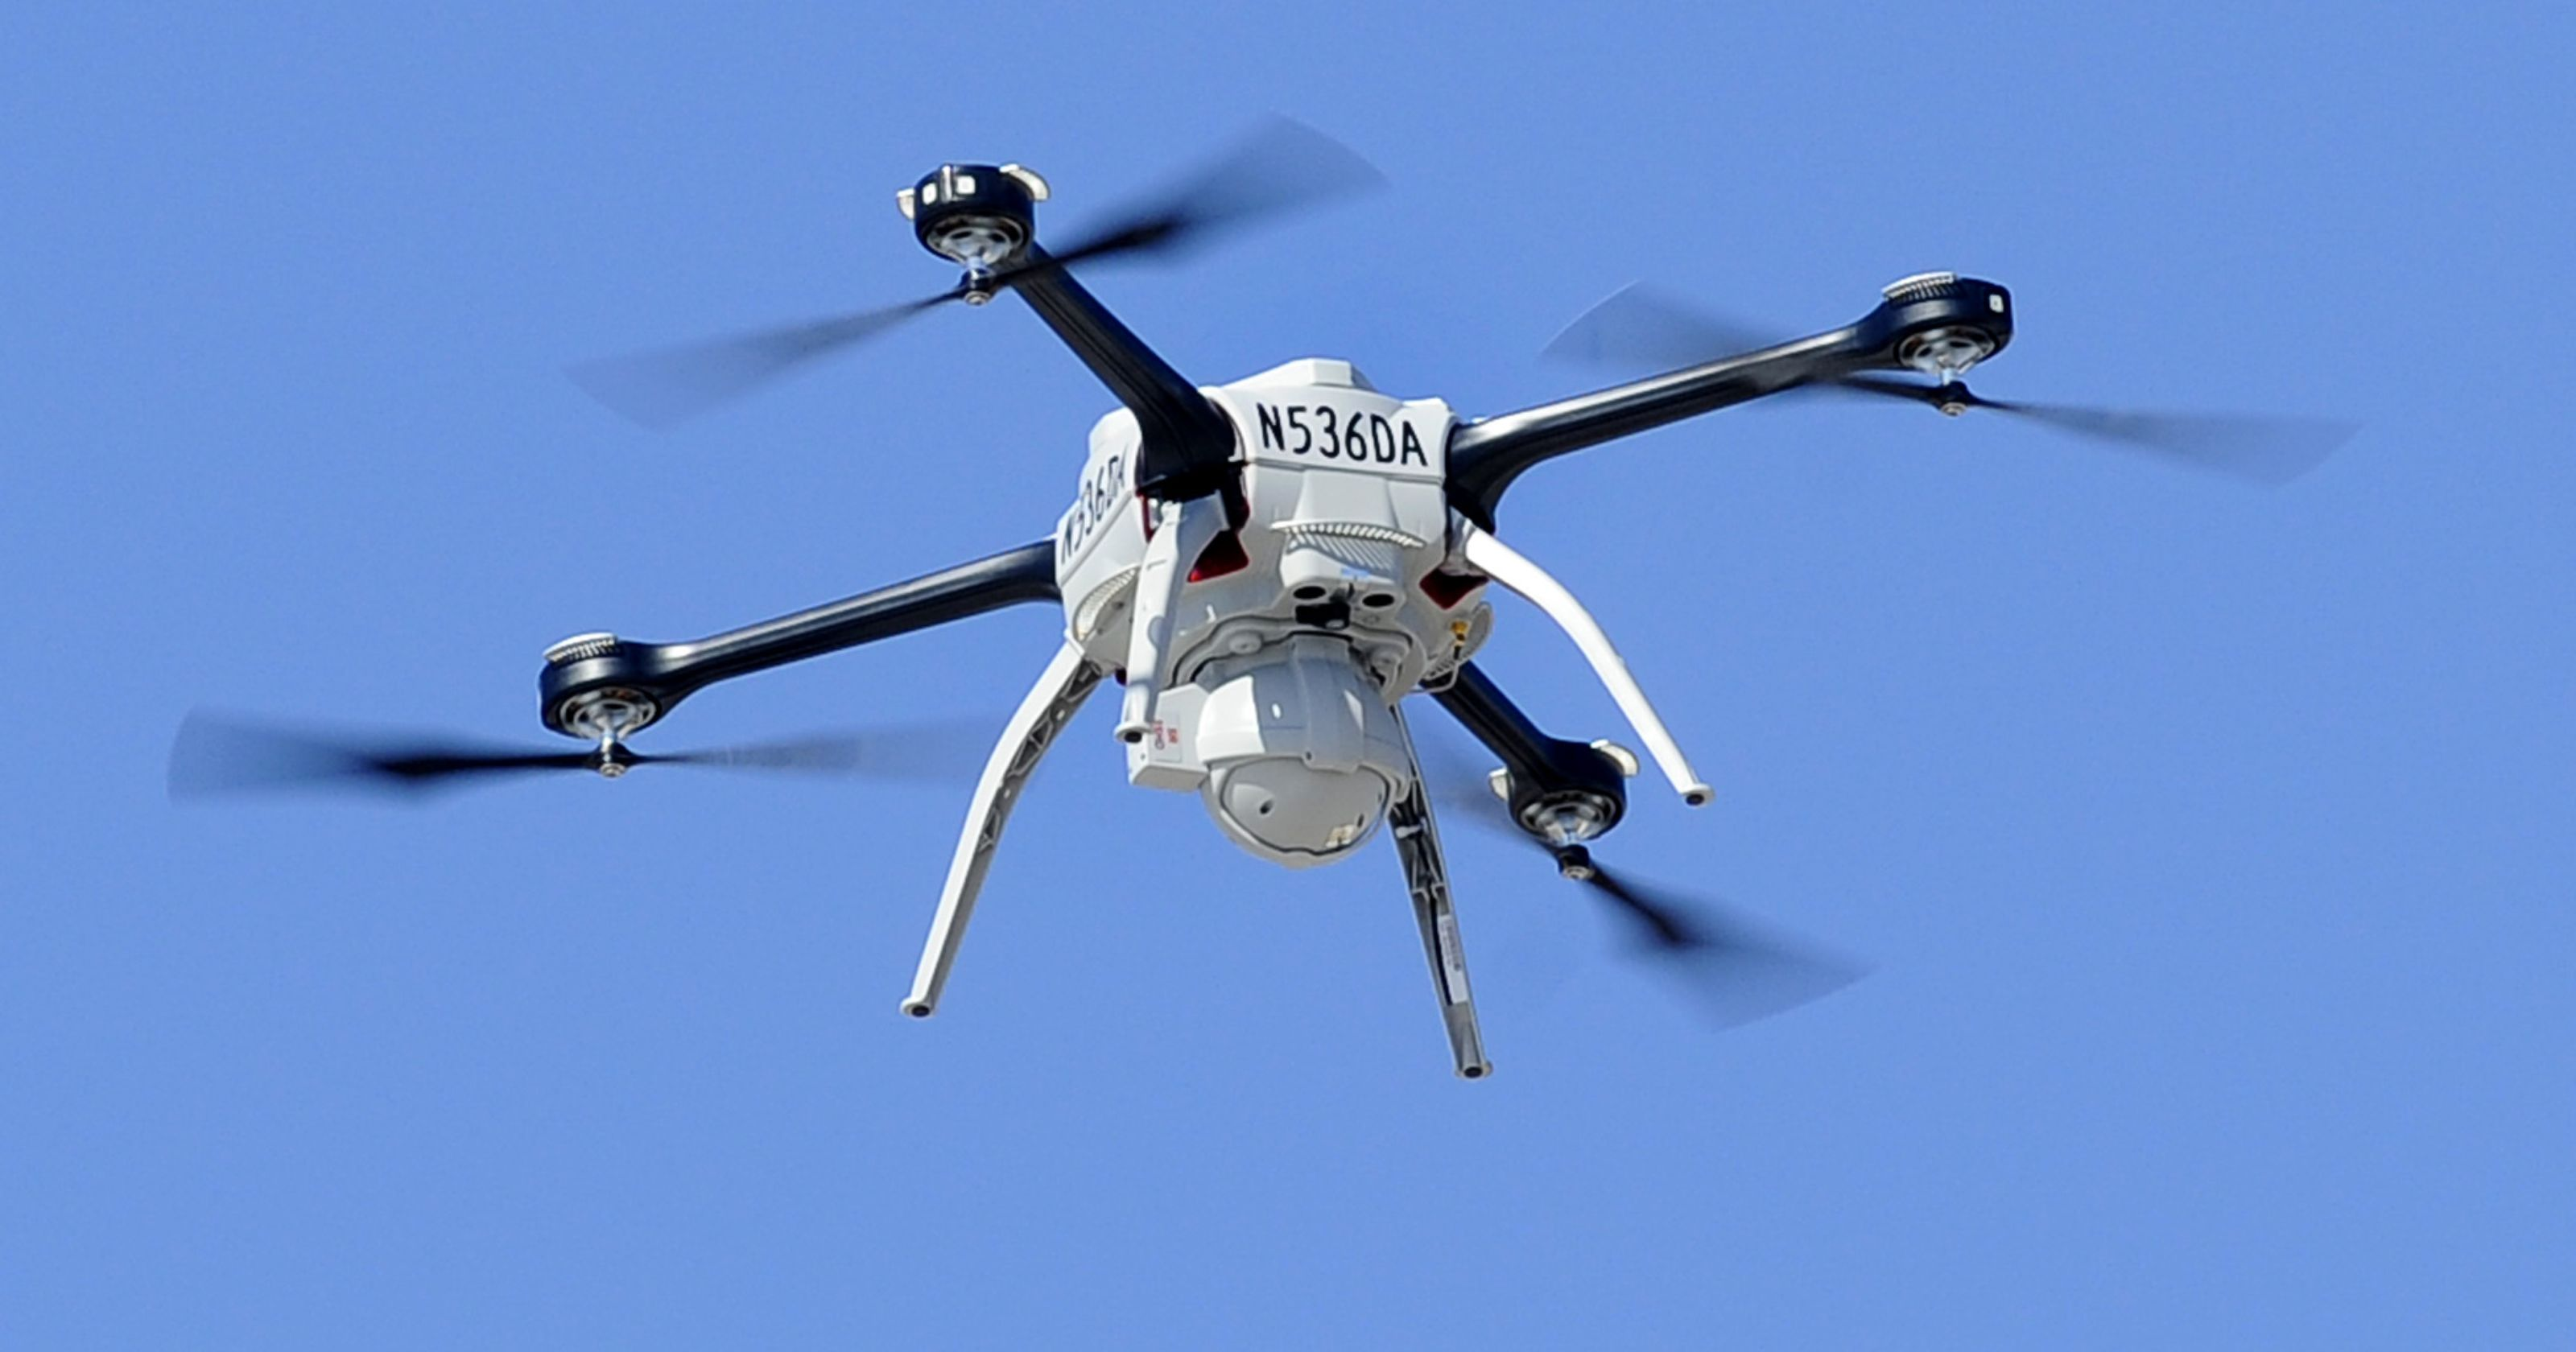drone: (160, 102, 2385, 1093)
